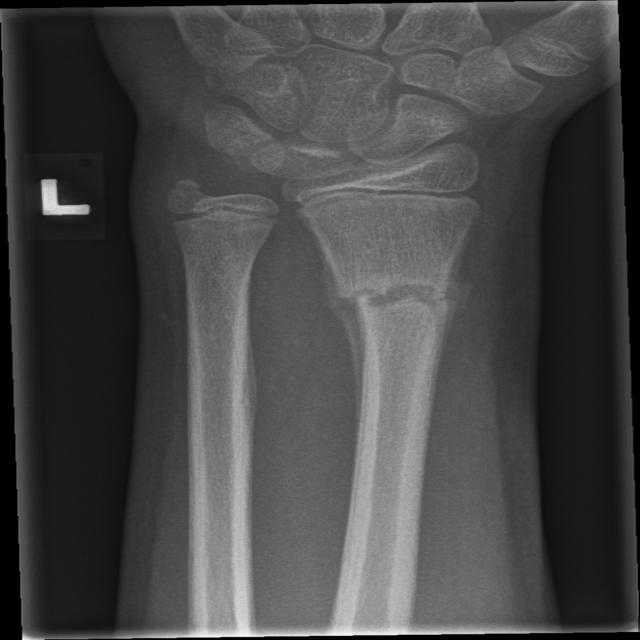radius fracture: (321, 241, 492, 427)
ulna fracture: (146, 165, 285, 289)
